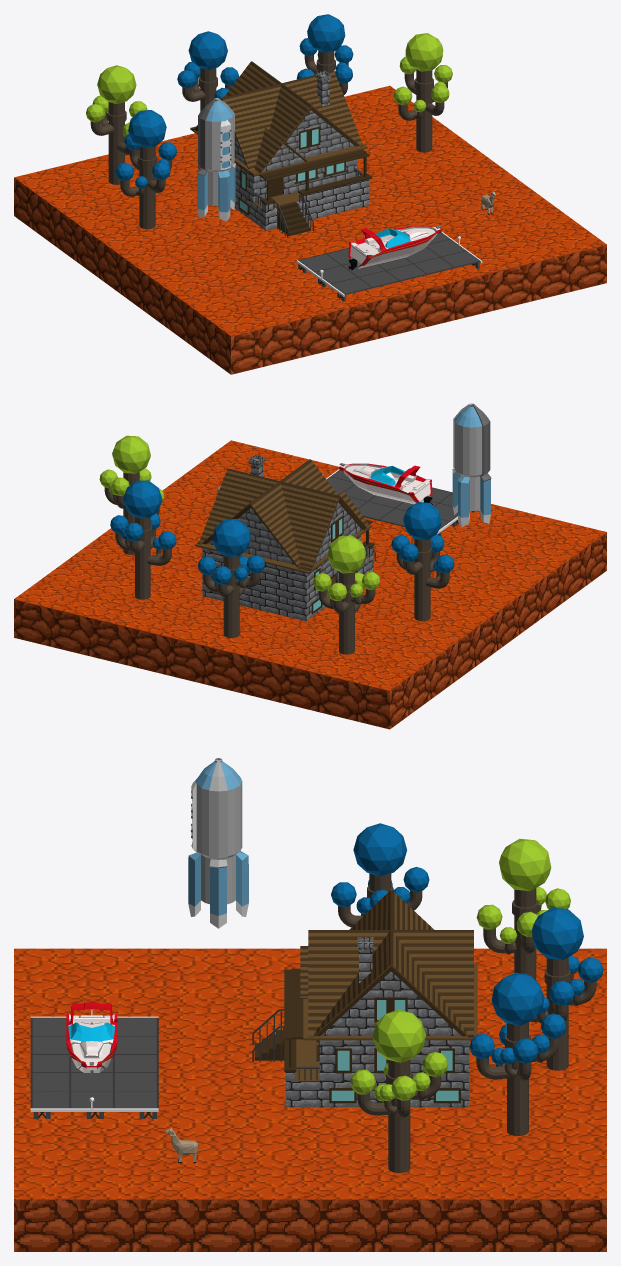
The picture shows the model from 3 angles, top to bottom: view 1: azimuth 30°, elevation 25°; view 2: azimuth 150°, elevation 25°; view 3: azimuth 270°, elevation 25°; orthographic projection. The views are drawn at different scales.
Parts seen in each view (by area): view 1: Cube.001, Cube.586, OBJRANDOM_ROCKETSHIP, VEHICLES_BOAT; view 2: Cube.001, Cube.586, OBJRANDOM_ROCKETSHIP, VEHICLES_BOAT; view 3: Cube.001, Cube.586, OBJRANDOM_ROCKETSHIP, VEHICLES_BOAT.
Part boxes in pixels (x1,y1,x2,y2): Cube.001: (14,14,606,374); Cube.586: (190,61,372,236); OBJRANDOM_ROCKETSHIP: (197,98,235,221); VEHICLES_BOAT: (348,225,441,270); Cube.001: (14,435,606,729); Cube.586: (195,455,375,621); OBJRANDOM_ROCKETSHIP: (452,403,491,526); VEHICLES_BOAT: (339,463,432,504); Cube.001: (14,823,606,1251); Cube.586: (252,890,477,1107); OBJRANDOM_ROCKETSHIP: (188,758,248,928); VEHICLES_BOAT: (66,1002,117,1074).
Size of the model in its own units: 4000 by 2328 by 4000.
30 materials, 5 textured.
